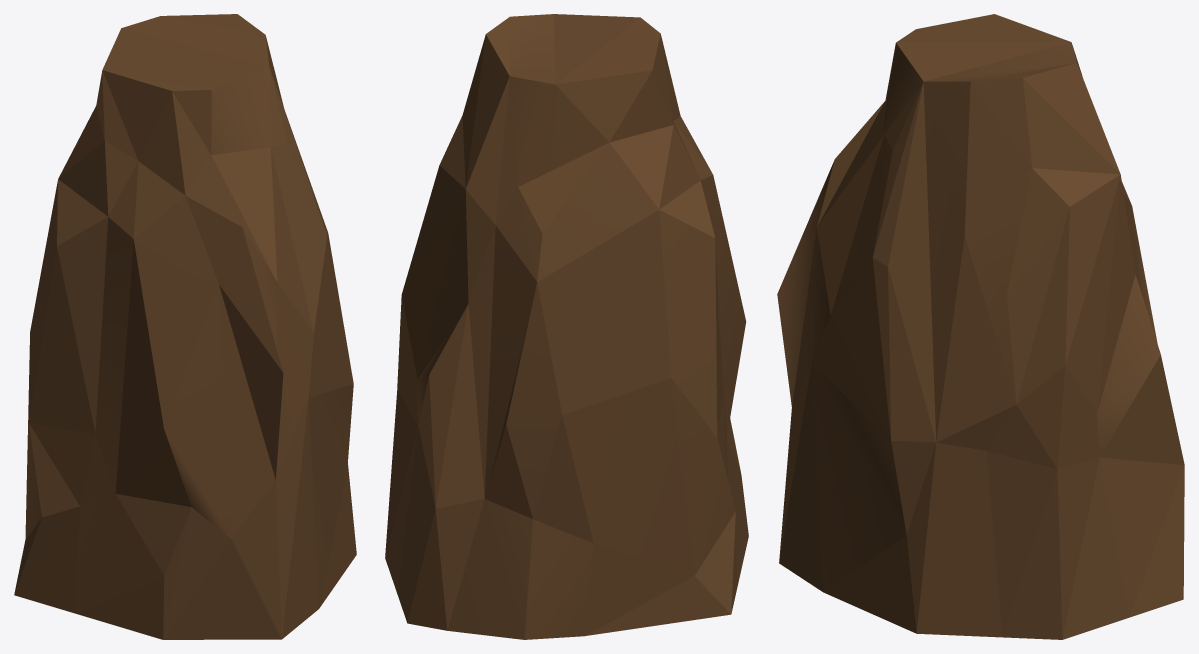
Rendered from MesaRockTall.fbx.
3 views of the same model, side by side, from view 1: azimuth 30°, elevation 25°; view 2: azimuth 150°, elevation 25°; view 3: azimuth 270°, elevation 25° (orthographic). The views are drawn at different scales.
Visible parts, largest first — view 1: MesaRockTall; view 2: MesaRockTall; view 3: MesaRockTall.
Part boxes in pixels (box(x1,y1,x2,y2)): MesaRockTall: box(14, 14, 356, 639); MesaRockTall: box(385, 14, 748, 639); MesaRockTall: box(777, 14, 1184, 639).
Size of the model in its own units: 3.83 by 6.1 by 4.31.
